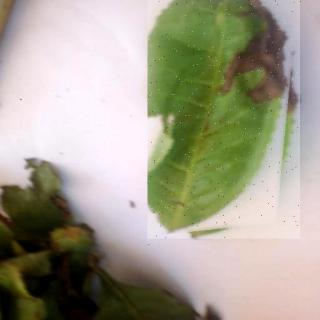Brown Blight: (149, 1, 302, 240)
